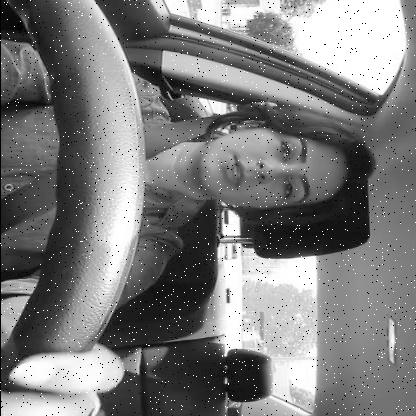seatbelt: (0, 94, 380, 254)
